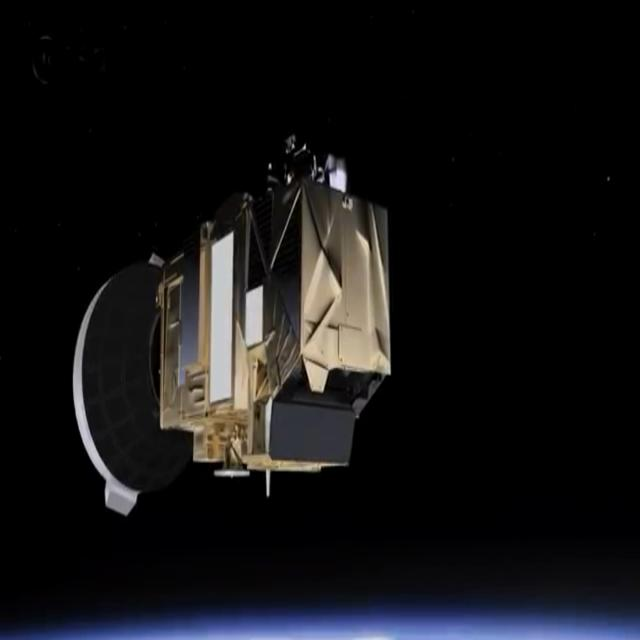medium_debris: (66, 125, 395, 530)
